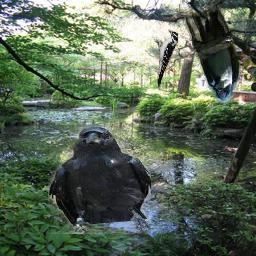Crow: (49, 126, 152, 235)
Swallow: (184, 0, 241, 103)
Woodpecker: (154, 29, 178, 87)
